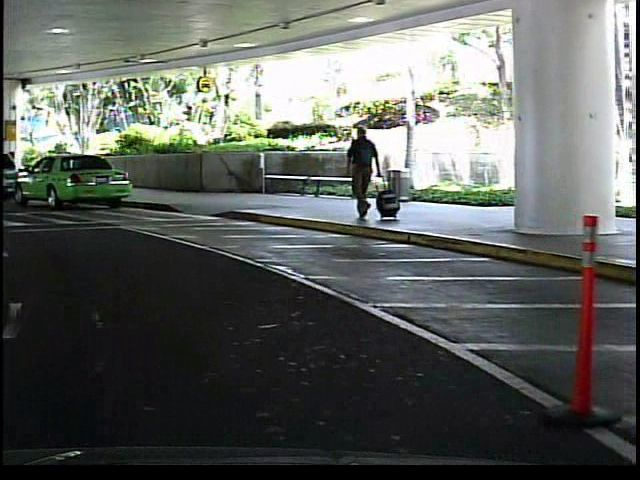person: (338, 119, 383, 229)
